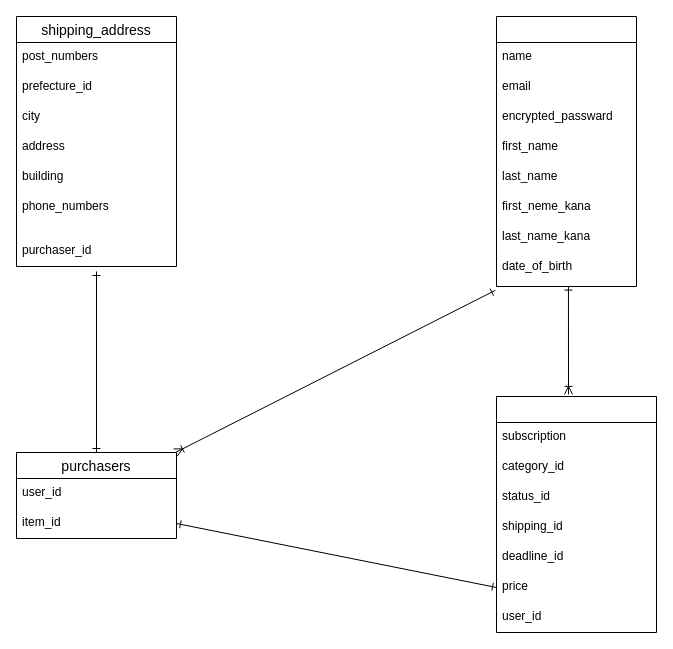
The diagram is 673 pixels wide and 649 high, and some of its shapes have lost their labels. Each missing label, with the box of its shape:
items: (496, 396, 656, 632)
users: (496, 16, 636, 286)
